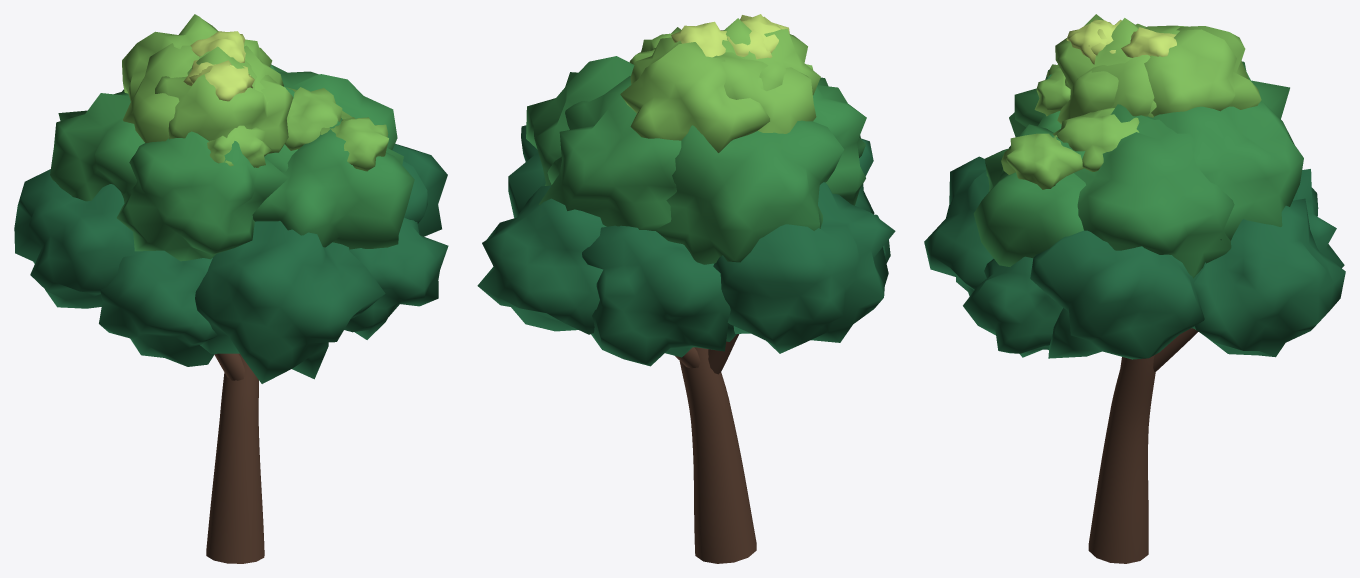
Rendered from tree_c.glb.
3 views of the same model, side by side, from view 1: azimuth 30°, elevation 25°; view 2: azimuth 150°, elevation 25°; view 3: azimuth 270°, elevation 25° (orthographic). The views are drawn at different scales.
Parts seen in each view (by area): view 1: leaves.050, leaves.055, leaves.056, leaves.048, leaves.049, trunk.004, leaves.054, leaves.059, leaves.051, leaves.057, leaves.052, leaves.045 (+7 smaller); view 2: leaves.048, leaves.054, leaves.047, leaves.053, leaves.046, leaves.058, trunk.004, leaves.052, leaves.057, leaves.055, leaves.059, leaves.045 (+4 smaller); view 3: leaves.045, leaves.052, leaves.046, leaves.053, trunk.004, leaves.056, leaves.058, leaves.051, leaves.050, leaves.059, highlight.024, highlight.021 (+8 smaller).
Part boxes in pixels (x1,y1,x2,y2): leaves.050: [195, 221, 385, 383]; leaves.055: [116, 131, 288, 261]; leaves.056: [252, 118, 414, 249]; leaves.048: [14, 169, 141, 308]; leaves.049: [99, 250, 217, 366]; trunk.004: [206, 353, 264, 563]; leaves.054: [50, 89, 144, 201]; leaves.059: [155, 46, 293, 153]; leaves.051: [344, 217, 448, 339]; leaves.057: [123, 43, 283, 142]; leaves.052: [264, 71, 397, 171]; leaves.045: [392, 143, 447, 236]; leaves.048: [713, 182, 895, 353]; leaves.054: [656, 120, 844, 264]; leaves.047: [582, 225, 736, 366]; leaves.053: [539, 76, 681, 230]; leaves.046: [477, 185, 606, 334]; leaves.058: [620, 37, 769, 152]; trunk.004: [679, 347, 756, 563]; leaves.052: [526, 56, 634, 185]; leaves.057: [713, 52, 816, 133]; leaves.055: [813, 77, 866, 205]; leaves.059: [723, 18, 820, 95]; leaves.045: [508, 125, 545, 217]; leaves.045: [1030, 230, 1205, 359]; leaves.052: [1074, 104, 1234, 278]; leaves.046: [1191, 198, 1345, 357]; leaves.053: [1146, 100, 1303, 240]; trunk.004: [1088, 355, 1155, 563]; leaves.056: [973, 124, 1085, 266]; leaves.058: [1144, 26, 1261, 116]; leaves.051: [963, 256, 1062, 357]; leaves.050: [924, 156, 993, 296]; leaves.059: [1055, 14, 1156, 124]; highlight.024: [1001, 133, 1083, 189]; highlight.021: [1053, 108, 1139, 171].
Bounding box in the file's own units: 7.86 × 10.1 × 7.33.
